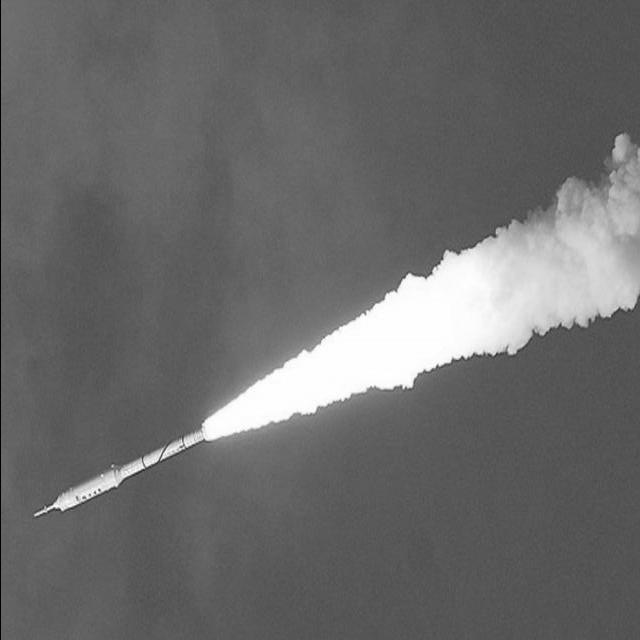missile: (50, 417, 214, 515)
